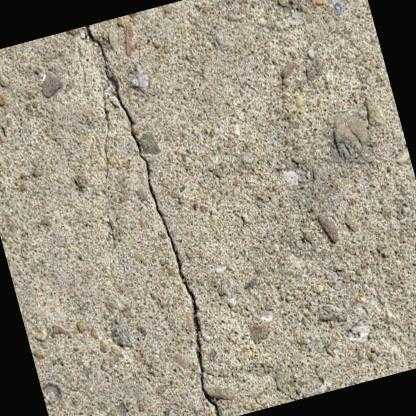crack: (82, 24, 224, 416)
